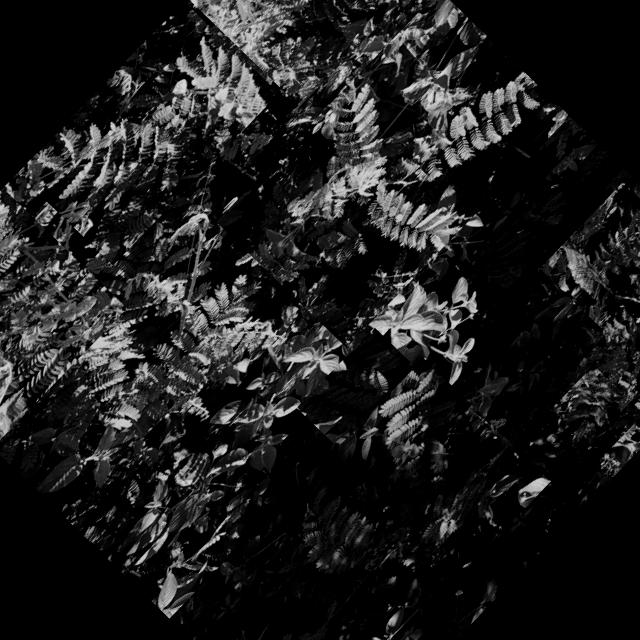Mysore-Thorn-Weed: (215, 0, 569, 348), (169, 357, 550, 640), (17, 2, 278, 266), (84, 266, 274, 460), (0, 188, 126, 448), (470, 366, 640, 542), (186, 0, 425, 106), (469, 134, 624, 290), (539, 182, 640, 394), (296, 328, 414, 448)
